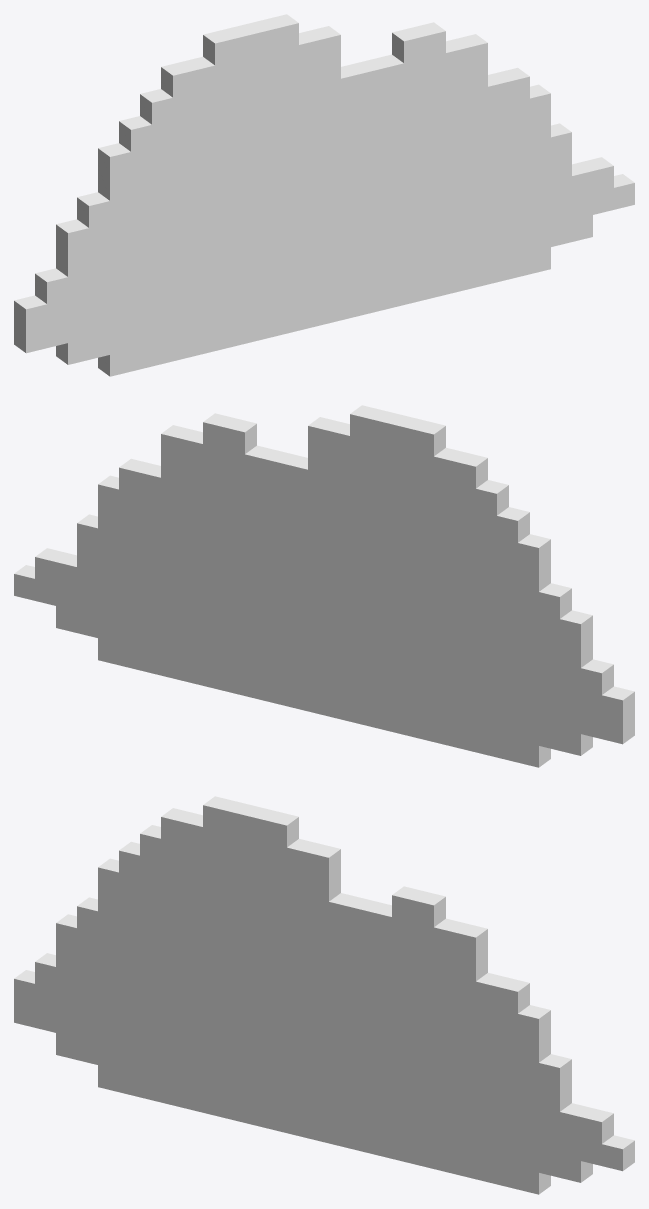
File: cloud_1.obj
3 views of the same model, one above another, from view 1: azimuth 30°, elevation 25°; view 2: azimuth 150°, elevation 25°; view 3: azimuth 330°, elevation 25° (orthographic).
Parts seen in each view (by area): view 1: cloud_1; view 2: cloud_1; view 3: cloud_1.
Part boxes in pixels (x1,y1,x2,y2): cloud_1: (14, 14, 634, 376); cloud_1: (14, 405, 634, 767); cloud_1: (14, 796, 634, 1194).
Size of the model in its own units: 29 by 14 by 1.
Materials: 1 (1 with a texture image).
